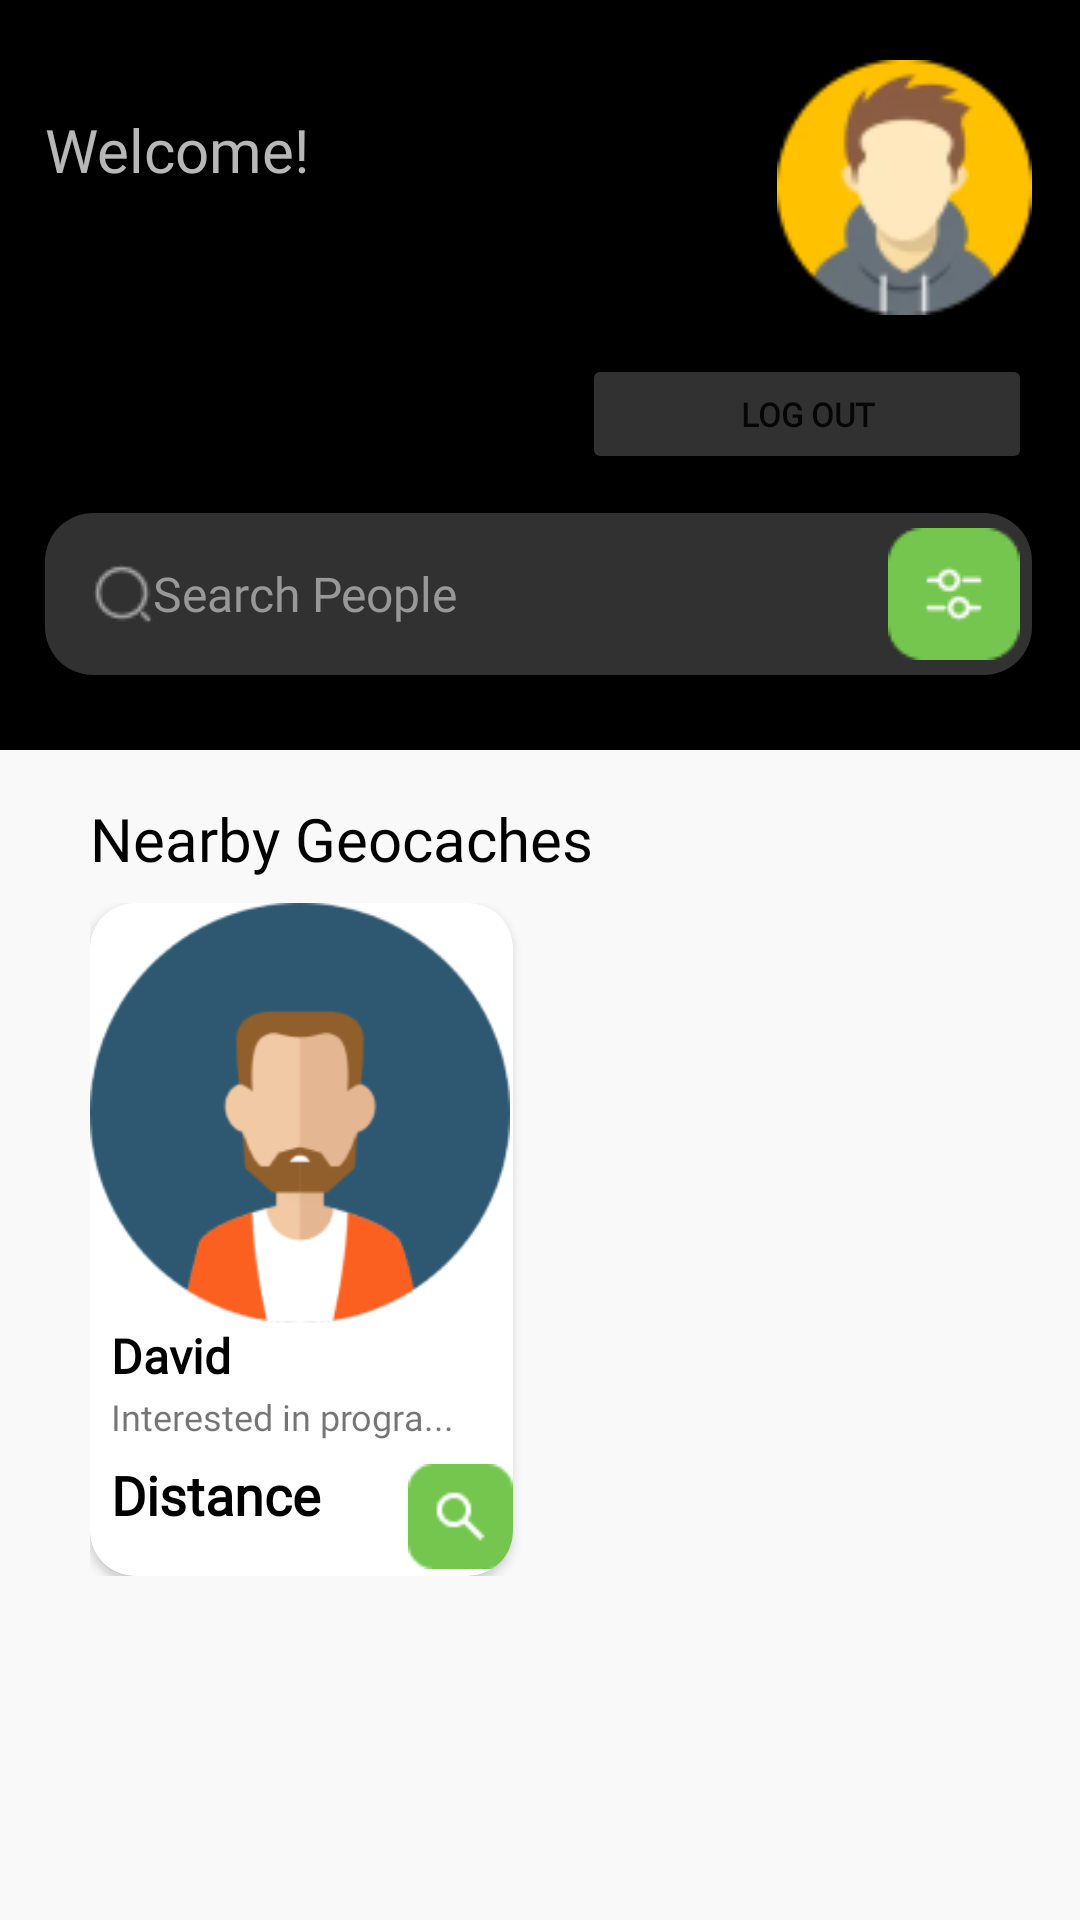

Locate icon controls on the screen. Image size 1080 × 1920, boxes as bbox=(x1, y1, x2, y2).
profile pic: bbox=(777, 60, 1032, 315)
searchbutton: bbox=(408, 1464, 513, 1569)
